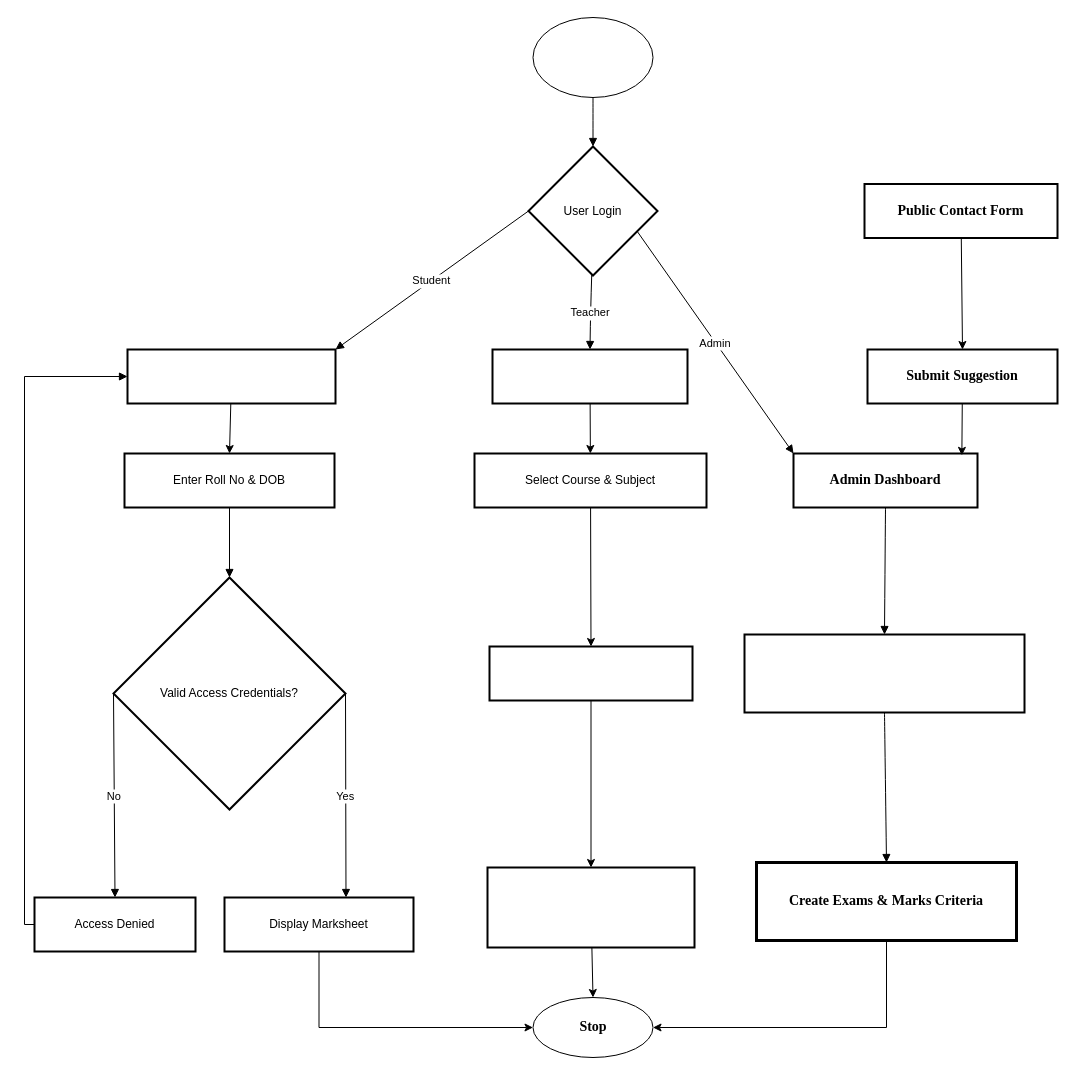
Image size: 1076x1075. Some labels were removed from this diagram. Each missing label, with the centre of its shape:
Input Student Marks: the point at 590,673
Manage Courses, Subjects,Teacher, & Students: the point at 884,673
Start: the point at 592,57
Store in Result Table: the point at 590,907
Student Access Form: the point at 231,376
Teacher Dashboard: the point at 589,376
